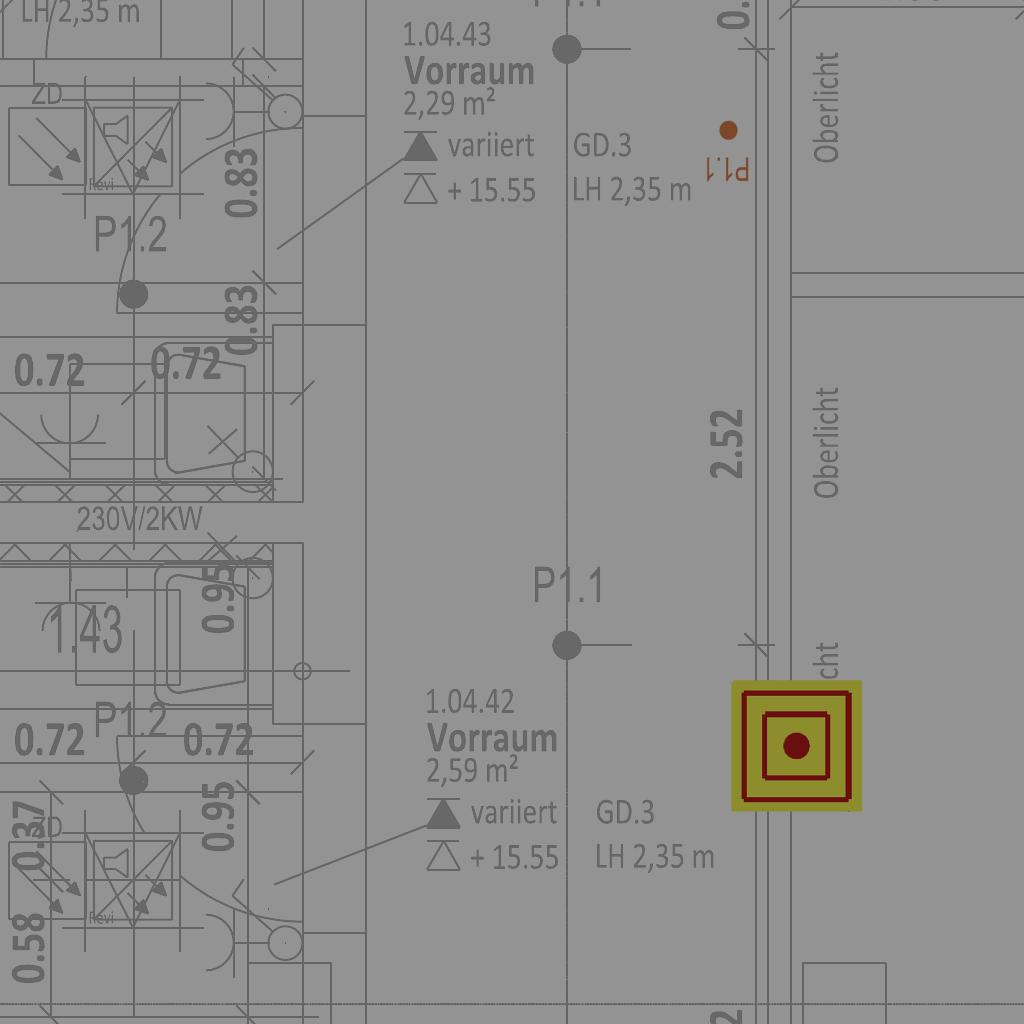Downlight_LED_Einbauleuchten_Flur: (704, 119, 750, 183)
NAM-Nichtautomatischer_Melder: (731, 680, 863, 812)
